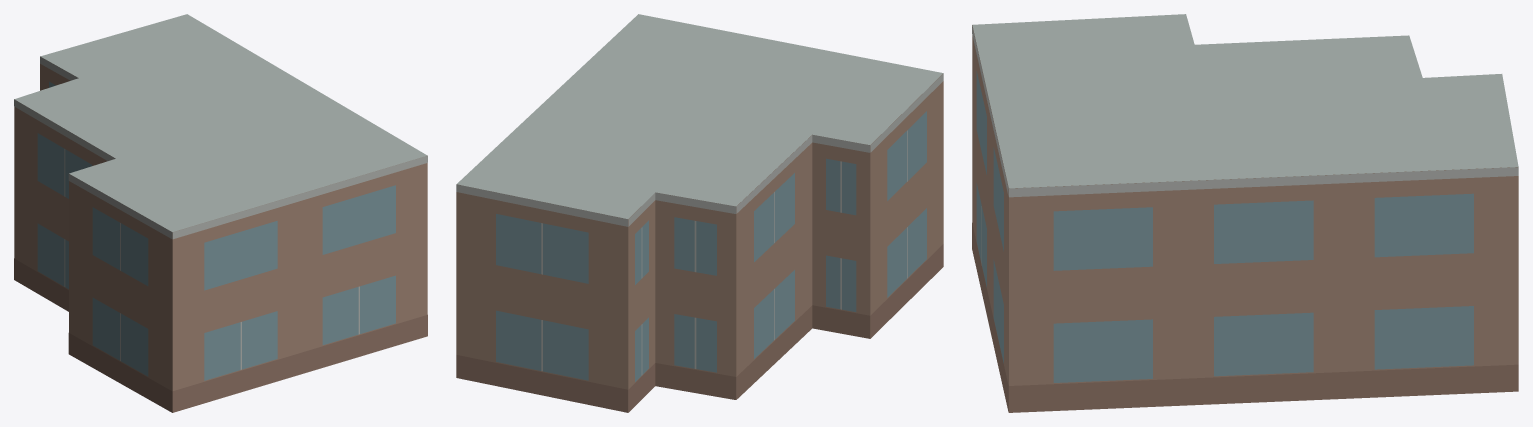
Rendered from survey-upis-32658407.glb.
3 renders of one model, left to right at view 1: azimuth 30°, elevation 25°; view 2: azimuth 150°, elevation 25°; view 3: azimuth 270°, elevation 25°, orthographic. The views are drawn at different scales.
Parts seen in each view (by area): view 1: survey-upis-32658407.tmp; view 2: survey-upis-32658407.tmp; view 3: survey-upis-32658407.tmp.
Boxes of the visible parts, x1=… form: survey-upis-32658407.tmp: x1=14, y1=14, x2=427, y2=412; survey-upis-32658407.tmp: x1=456, y1=14, x2=943, y2=412; survey-upis-32658407.tmp: x1=972, y1=14, x2=1518, y2=412.
Bounding box in the file's own units: 10.17 × 6.1 × 13.47.
